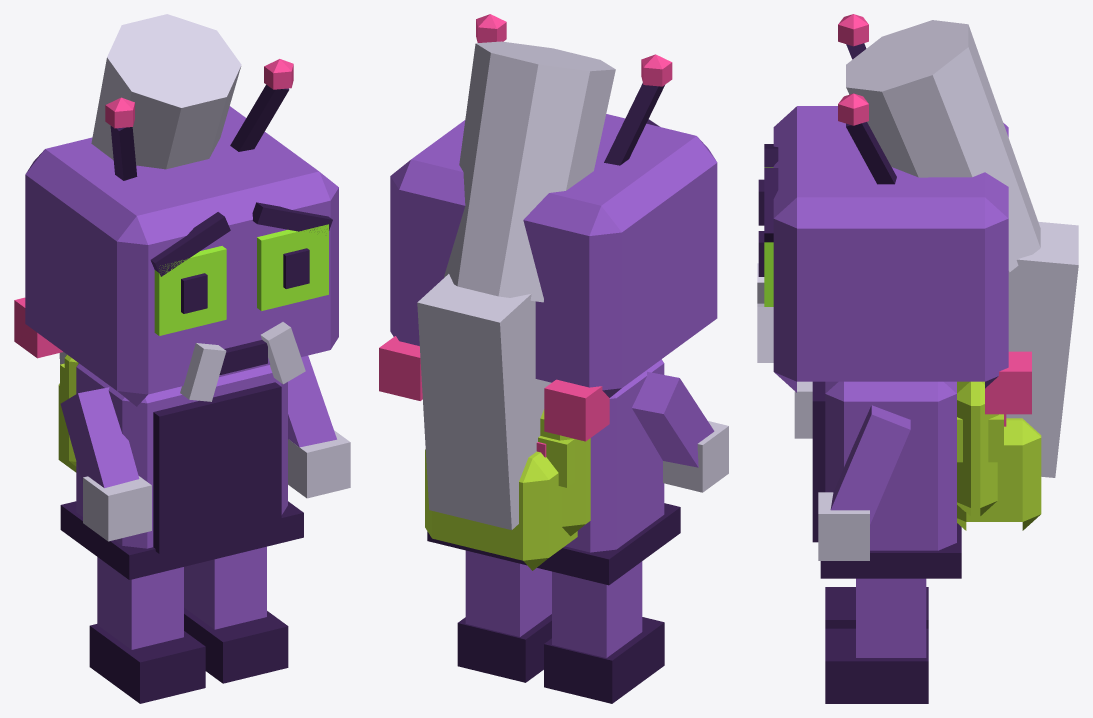
File: mortar_r11.glb
3 renders of one model, left to right at view 1: azimuth 30°, elevation 25°; view 2: azimuth 150°, elevation 25°; view 3: azimuth 270°, elevation 25°, orthographic. The views are drawn at different scales.
Visible parts, largest first — view 1: mortar_r11_mesh; view 2: mortar_r11_mesh; view 3: mortar_r11_mesh.
Part boxes in pixels (x1,y1,x2,y2): mortar_r11_mesh: [14, 14, 350, 703]; mortar_r11_mesh: [379, 14, 728, 703]; mortar_r11_mesh: [757, 14, 1078, 703].
Size of the model in its own units: 0.734 by 1.7 by 0.785.
1 material, 1 textured.
